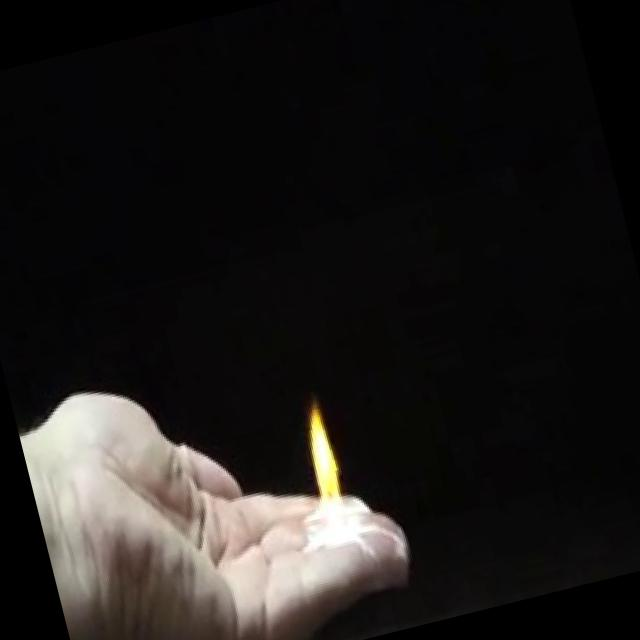Fire: (289, 385, 361, 526)
